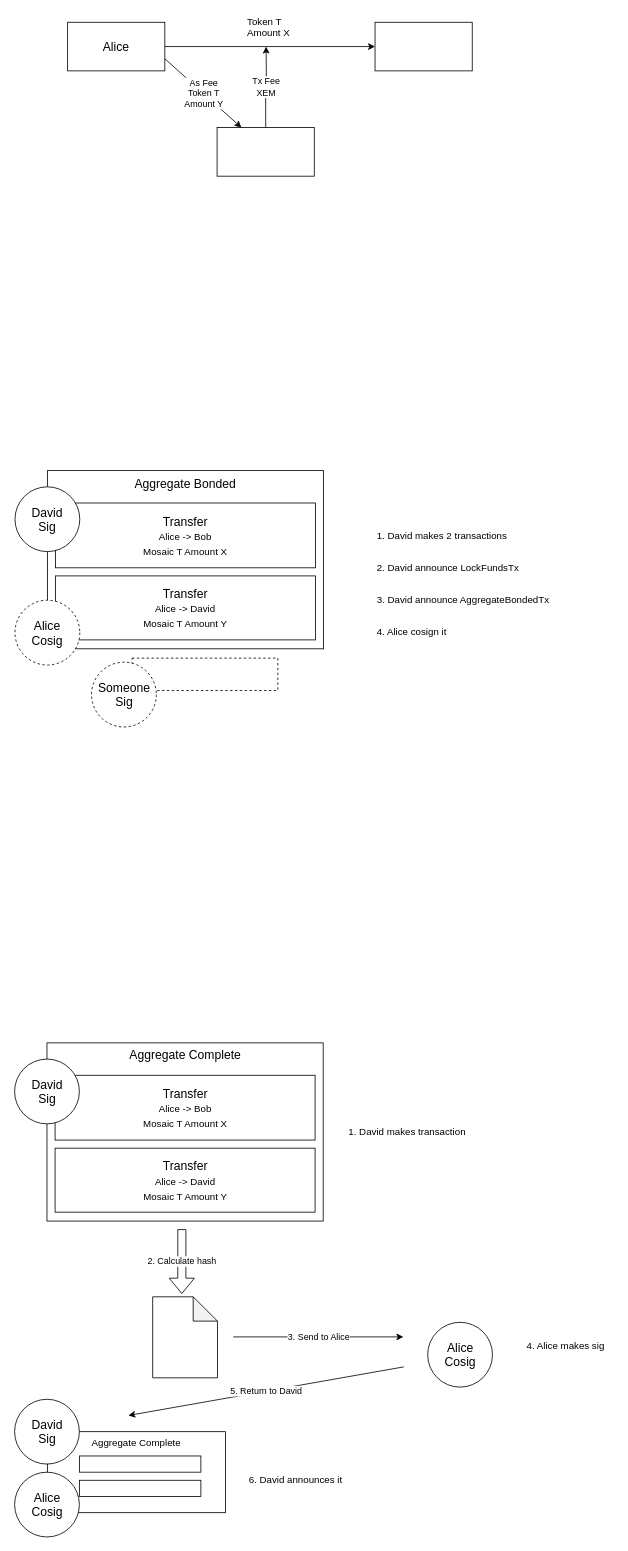
Image size: 628x1551. Some labels were removed from this diagram. The shapes that lost their labels are listed below. From the top down, each one's centre as x and y in pixels, then its label:
[423,46]: Bob
[265,151]: David
[204,674]: Lock Funds
[184,1337]: Transaction Hash
